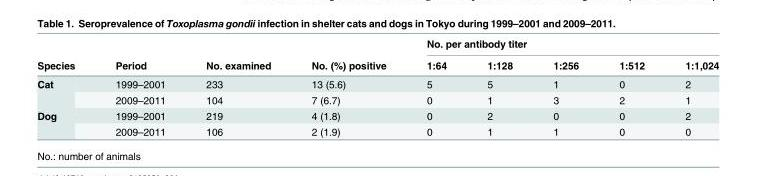table: (36, 37, 718, 136)
table column: (290, 37, 405, 136), (185, 37, 290, 136), (94, 37, 185, 136), (466, 37, 532, 136), (532, 37, 598, 136), (598, 37, 664, 136), (405, 37, 466, 136), (36, 37, 94, 136), (664, 37, 718, 136)
table column header: (36, 37, 718, 74)
table row: (36, 53, 718, 74), (36, 74, 718, 91), (36, 37, 718, 53), (36, 91, 718, 107), (36, 107, 718, 123), (36, 123, 718, 136)
table spanning cell: (405, 37, 718, 53), (290, 37, 405, 74), (185, 37, 290, 74), (94, 37, 185, 74), (36, 37, 94, 74), (36, 74, 94, 107), (36, 107, 94, 136)
